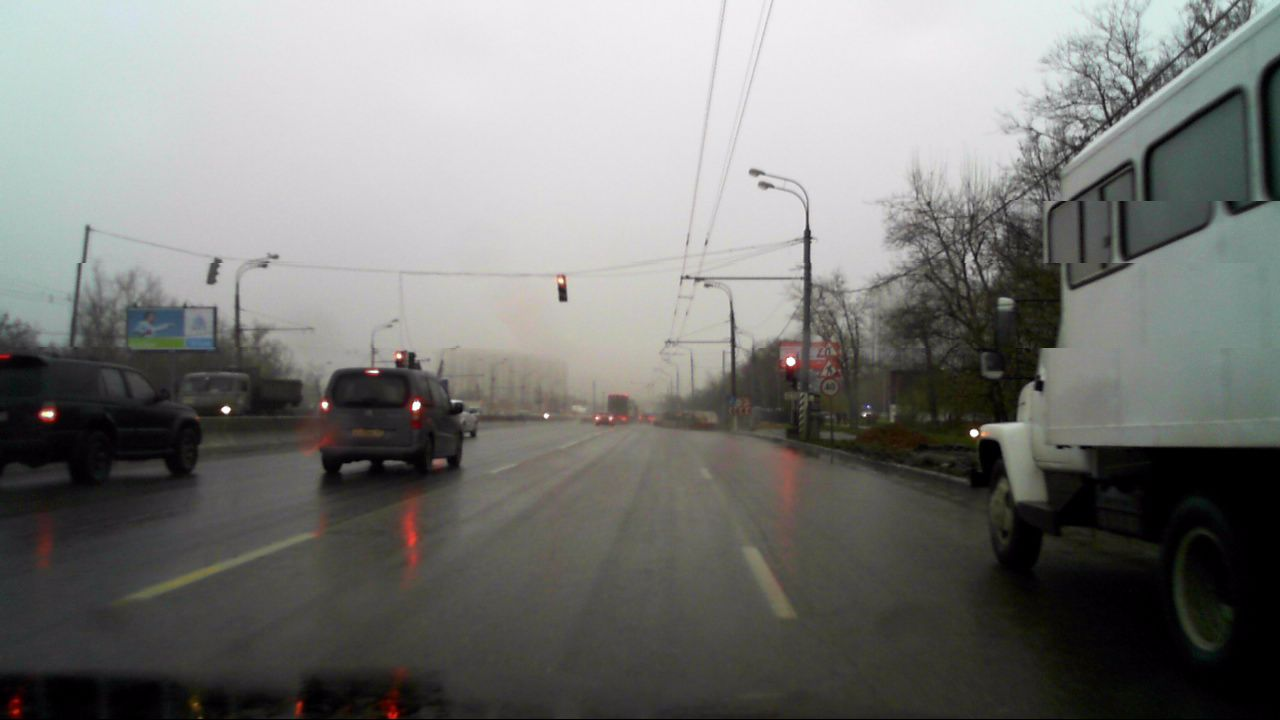speed_warning_40: (820, 378, 840, 396)
